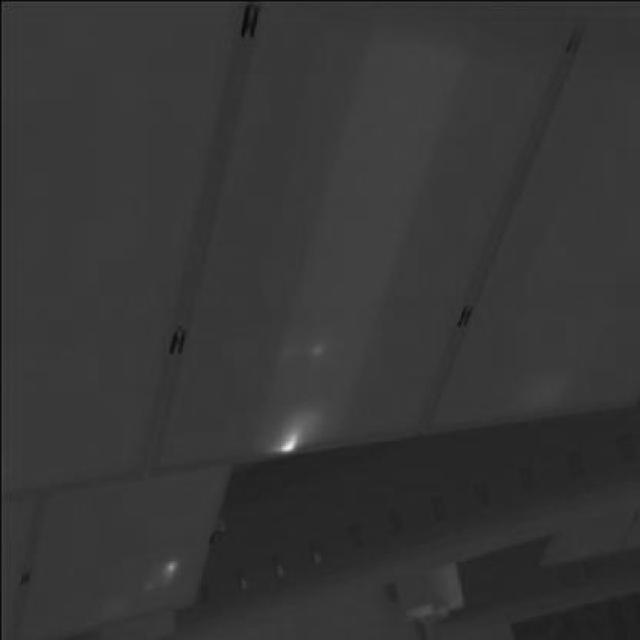hotspot: (268, 418, 308, 454)
